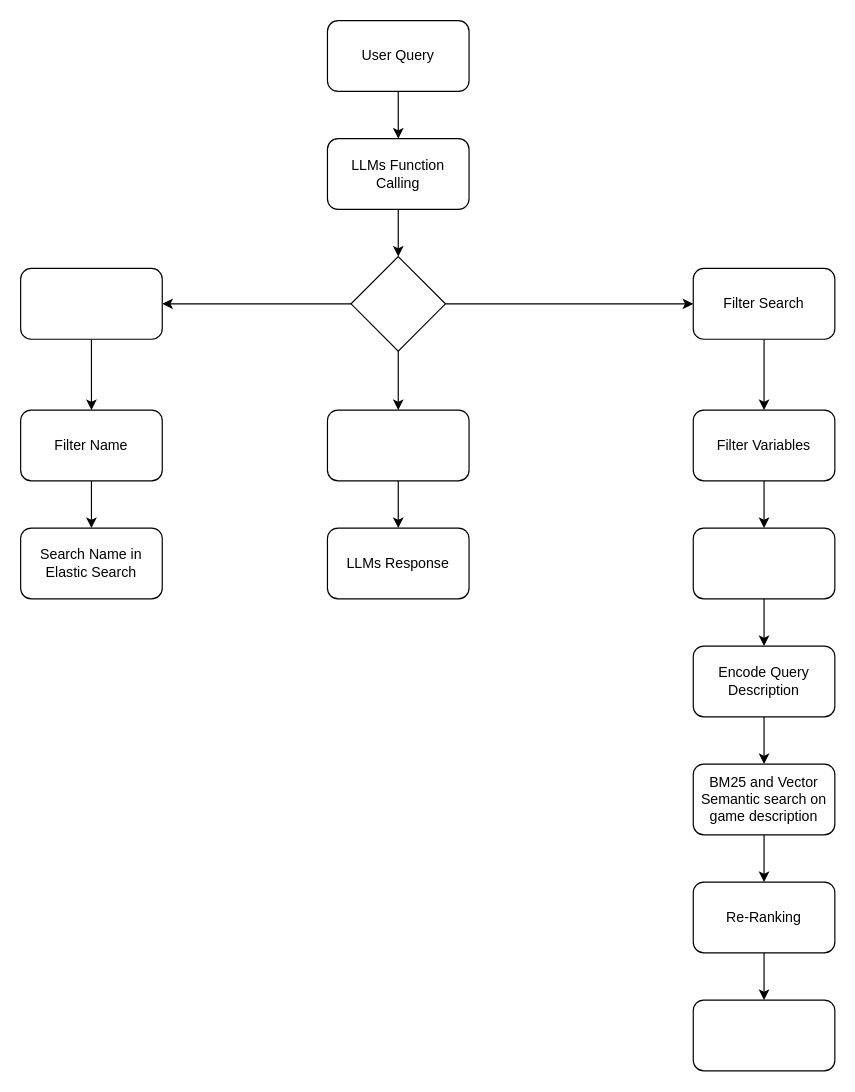
Some shapes in this 855 by 1092 pixel diagram are drawn without their labels. The shapes that lost their labels are listed below. From the top down, each one's box as (x1, y1, x2, y2) in pixels, then its label:
(19, 267, 162, 339): Direct Search
(350, 255, 445, 351): Function?
(326, 409, 469, 481): Chit Chat
(692, 527, 835, 599): Filter Games in Elastic Search
(692, 999, 835, 1071): Most Relevant Games based on user query
